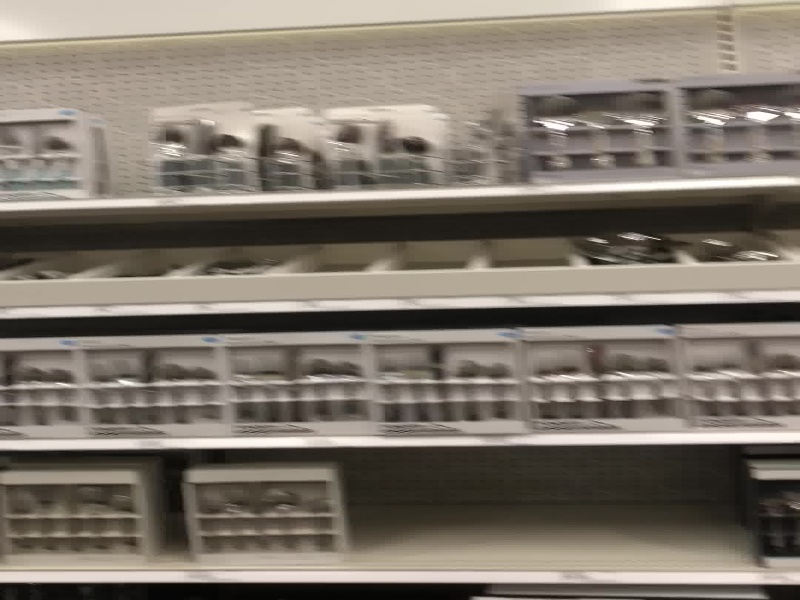void: (344, 448, 749, 569)
